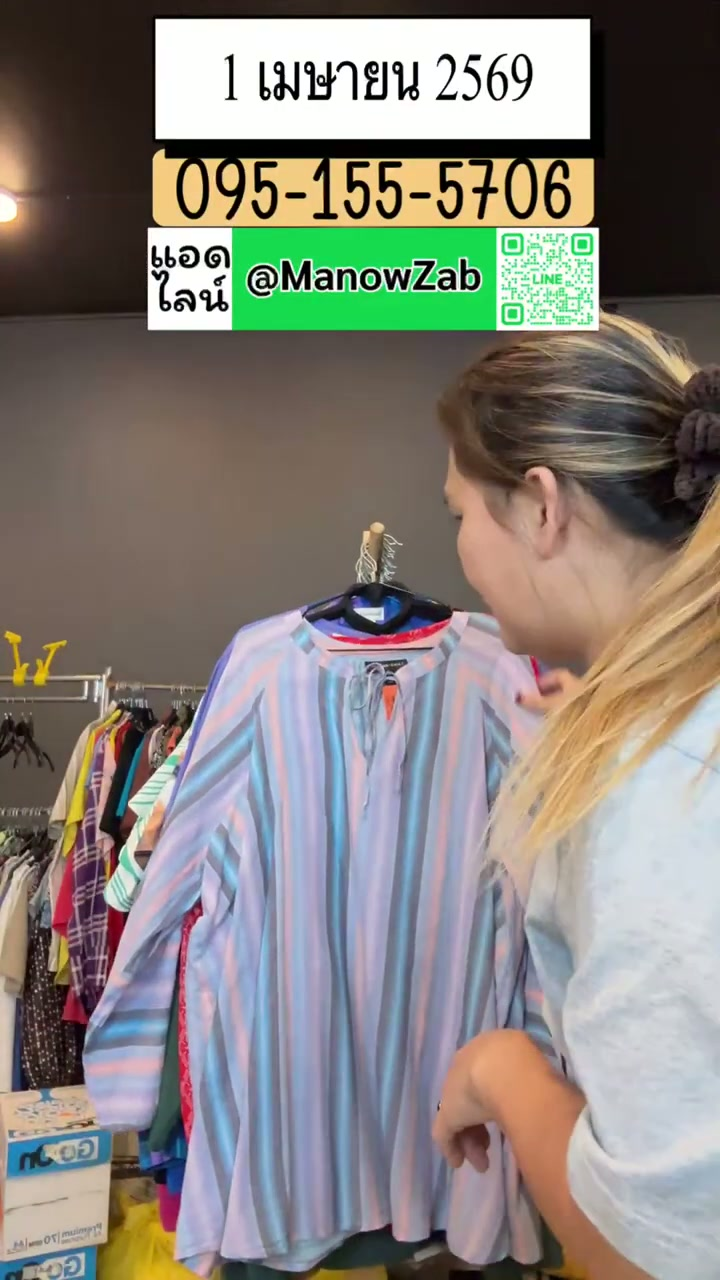display_shirt: (85, 610, 549, 1274)
